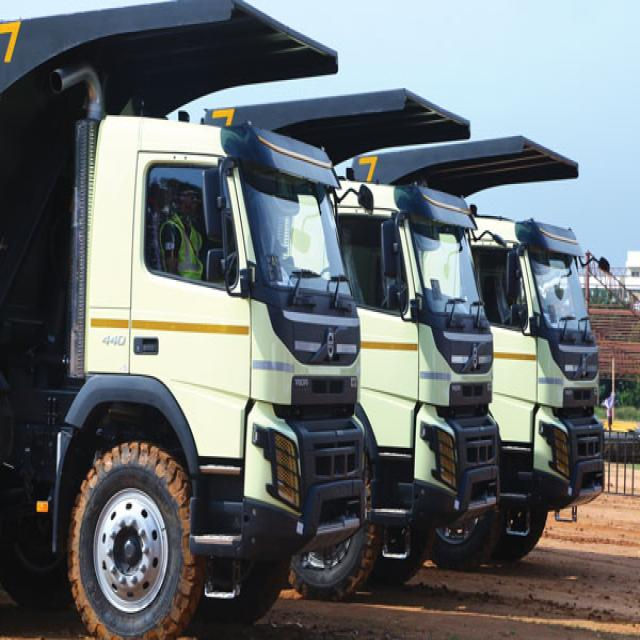dump_truck: (5, 3, 367, 640), (347, 77, 510, 553), (488, 115, 630, 567)
